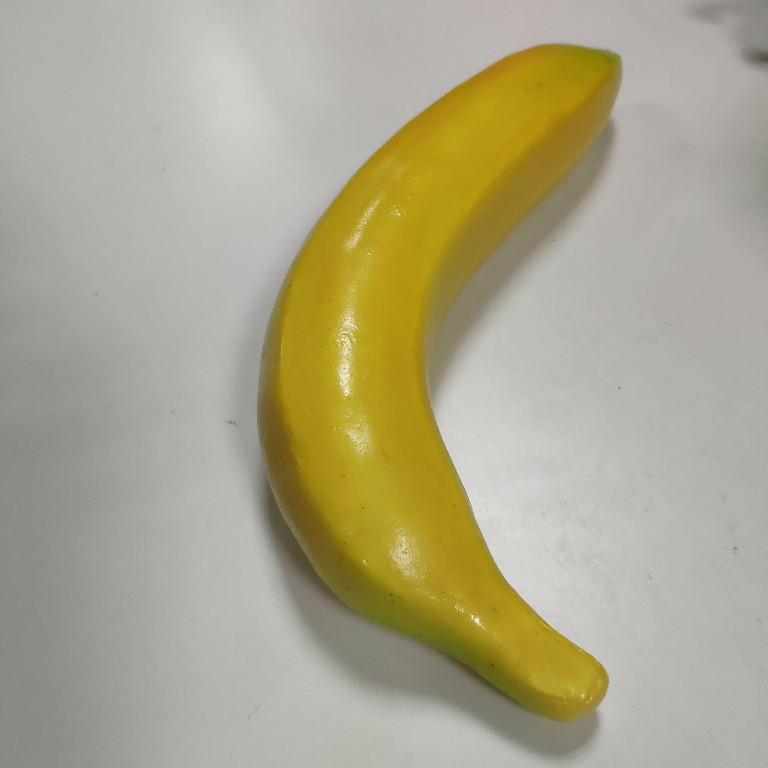fruit_banana: (249, 35, 626, 721)
